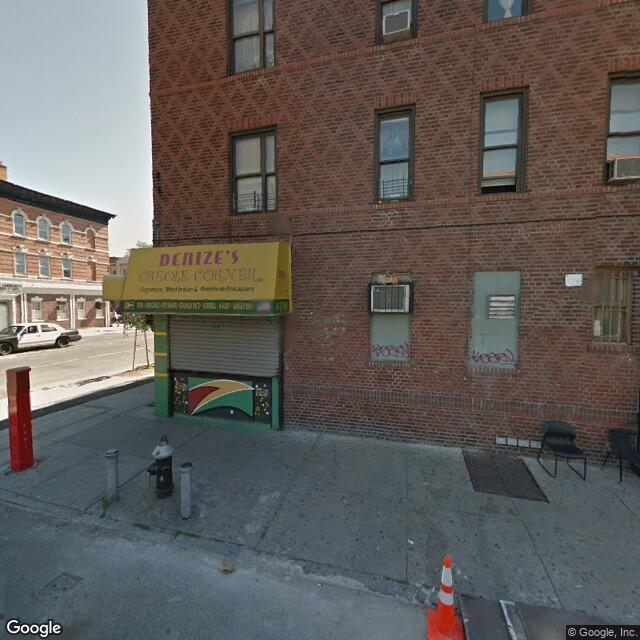litter: (405, 535, 413, 546)
